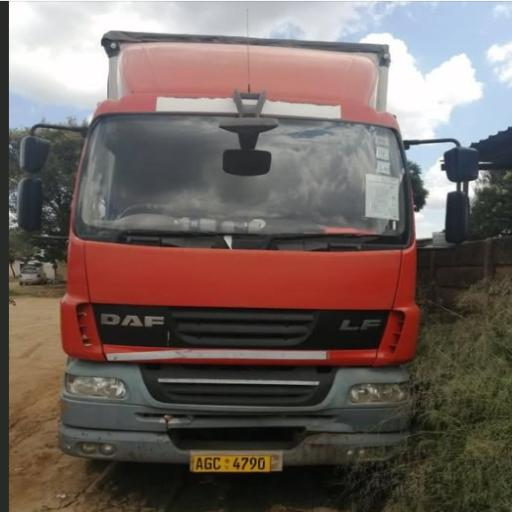number-plates: (192, 452, 272, 472)
